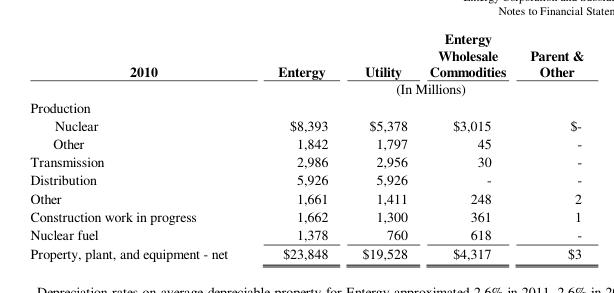table: (29, 28, 583, 261)
table column: (29, 28, 252, 261), (417, 28, 517, 261), (252, 28, 344, 261), (344, 28, 417, 261), (517, 28, 583, 261)
table column header: (29, 28, 583, 97)
table projected row header: (29, 97, 583, 115)
table row: (29, 28, 583, 79), (29, 169, 583, 188), (29, 242, 583, 261), (29, 79, 583, 97), (29, 97, 583, 115), (29, 115, 583, 133), (29, 133, 583, 151), (29, 151, 583, 169), (29, 188, 583, 206), (29, 206, 583, 224), (29, 224, 583, 242)
table spanning cell: (29, 28, 252, 97), (252, 79, 583, 97)
